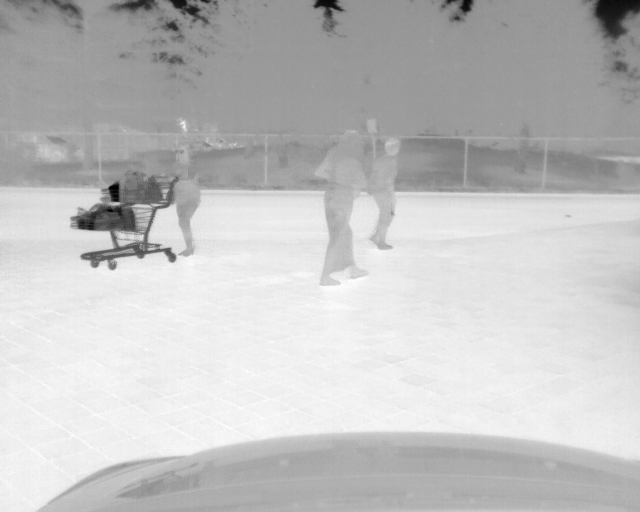people: (313, 128, 372, 284), (165, 142, 203, 258), (368, 137, 401, 251)
